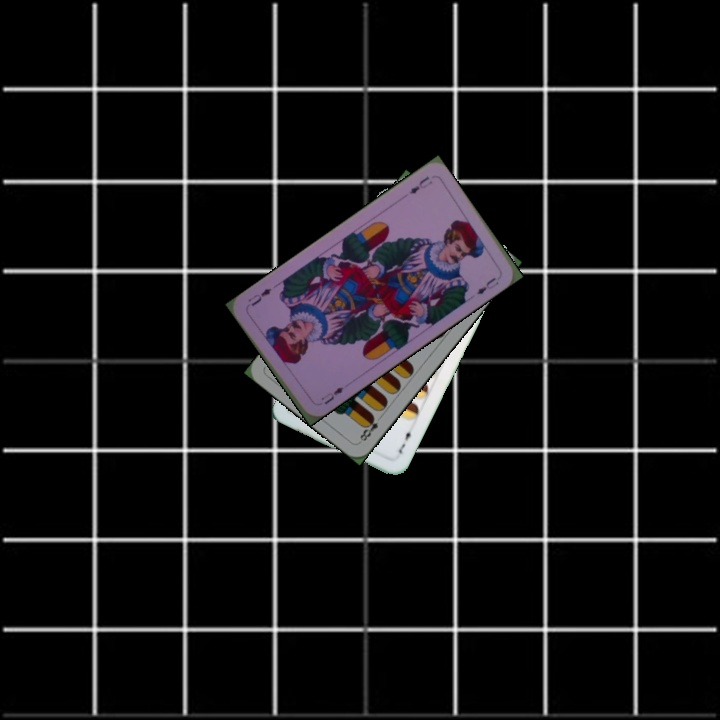E7: (394, 425, 416, 456)
E8: (355, 411, 385, 445)
EU: (405, 172, 435, 196), (317, 383, 346, 407)
